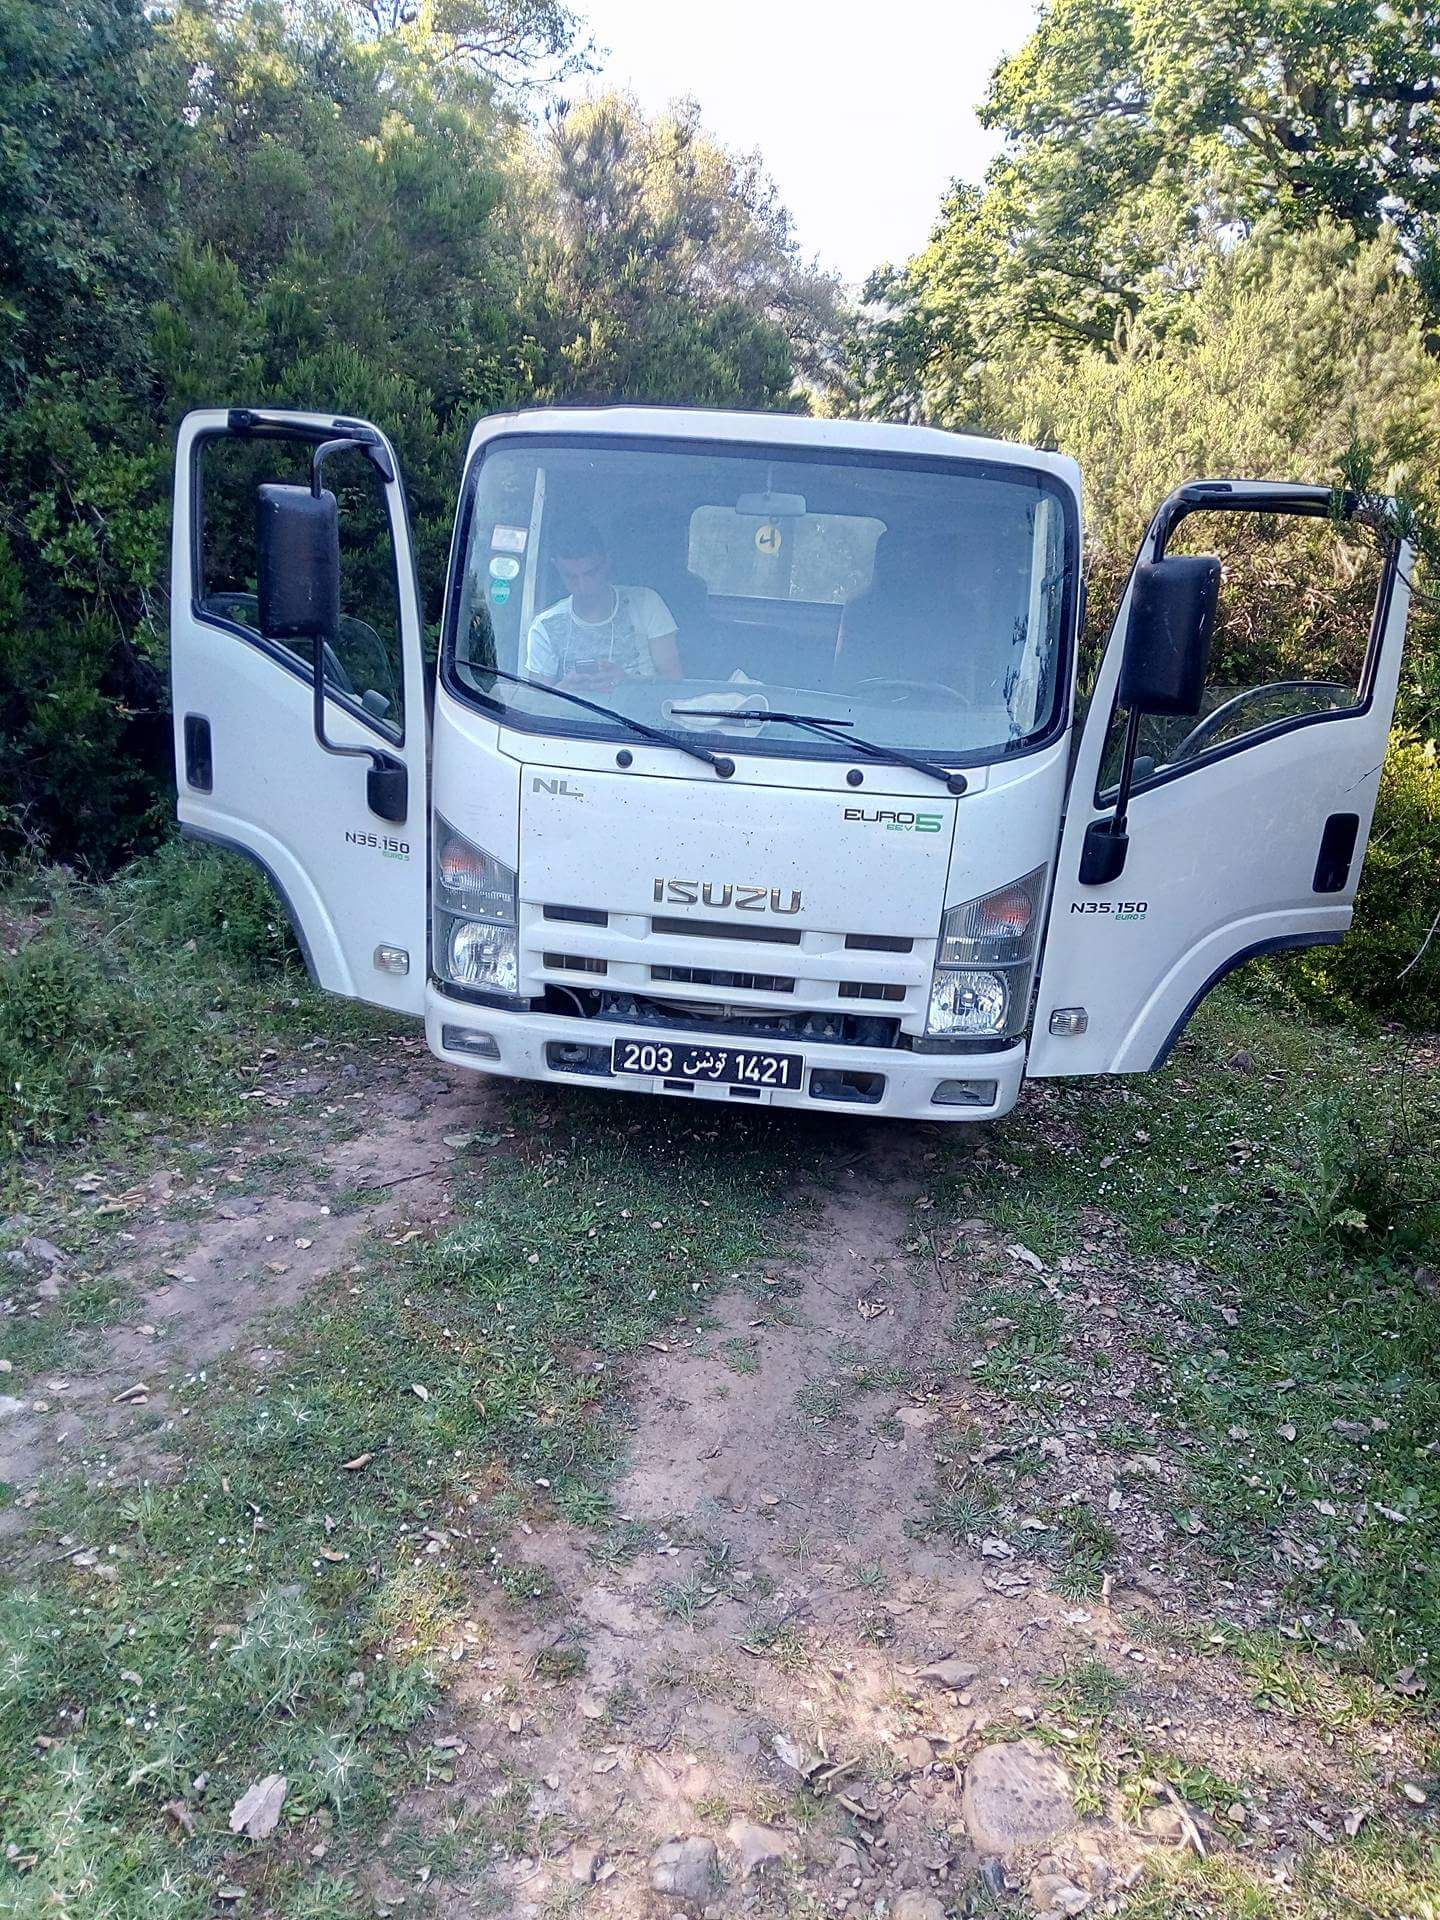LP: (613, 1039, 811, 1092)
